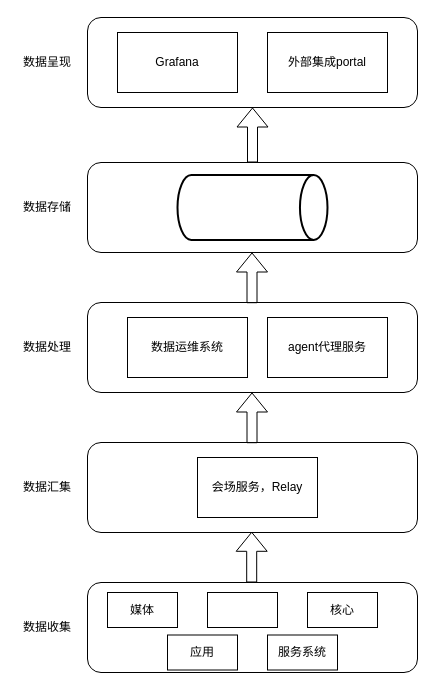
The diagram is 435 pixels wide and 690 high, and some of its shapes have lost their labels. The shapes that lost their labels are listed below. From the top down, each one's centre as x and y in pixels, then its label:
At [252,207]: "mongoDB集群".
At [242,610]: "信令".
